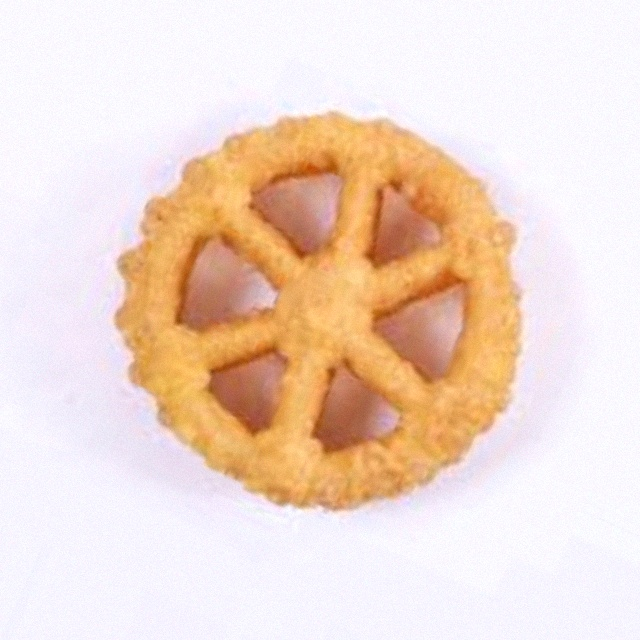Kokis: (100, 110, 540, 530)
